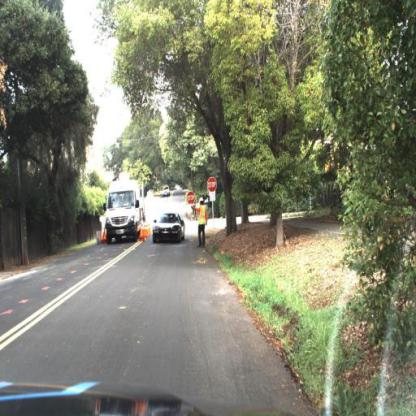car: (104, 178, 148, 246), (151, 212, 185, 248), (162, 182, 172, 202)
pedestrian: (188, 191, 205, 250)
